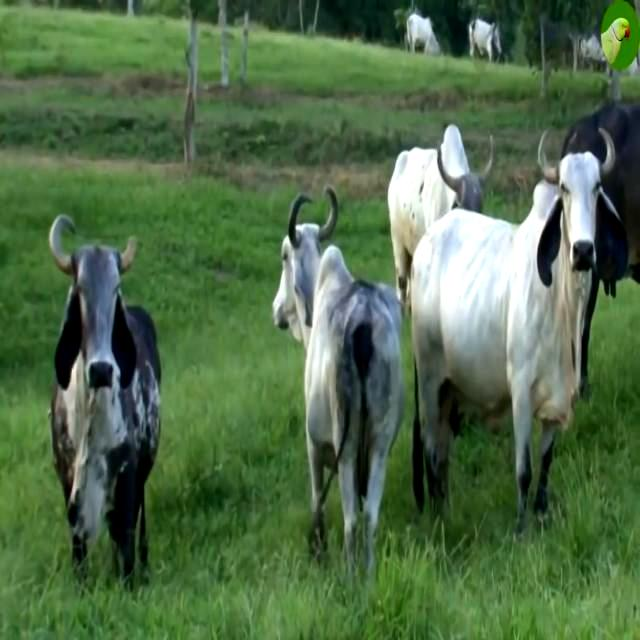COW: (410, 152, 624, 529), (272, 188, 402, 569), (49, 215, 160, 579), (388, 125, 495, 303)
